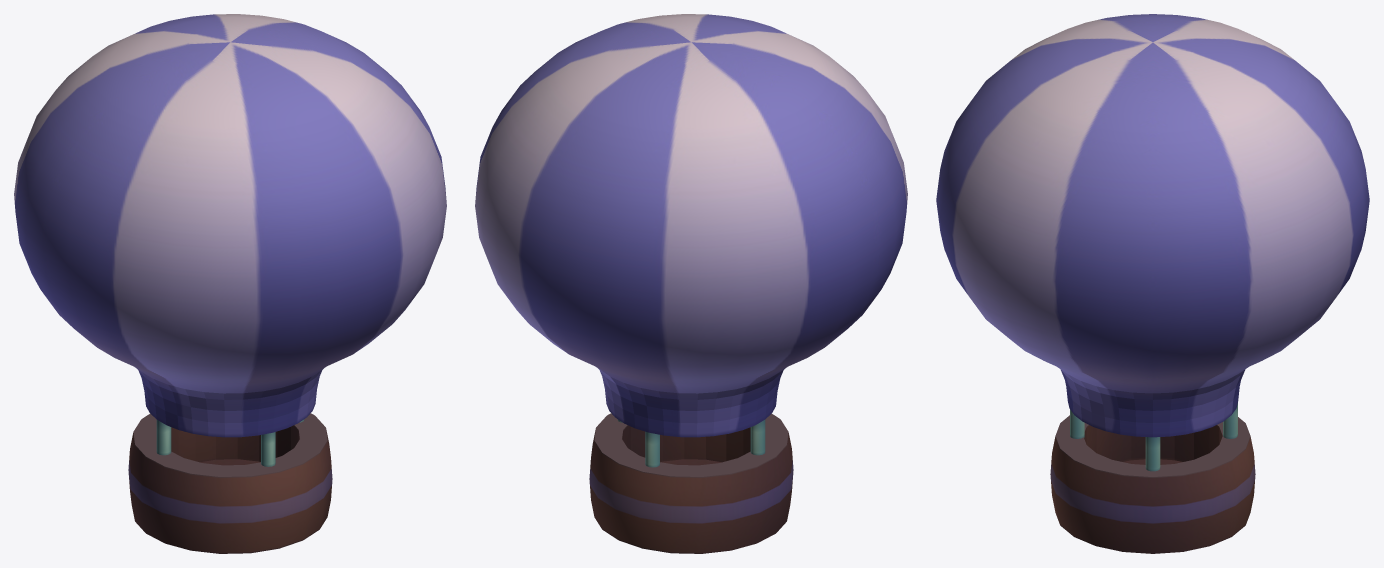
File: 宝宝巴士-主框架-推送地图-游园会-气球1.FBX
3 views of the same model, side by side, from view 1: azimuth 30°, elevation 25°; view 2: azimuth 150°, elevation 25°; view 3: azimuth 270°, elevation 25° (orthographic).
Parts seen in each view (by area): view 1: 宝宝巴士-主框架-推送地图-游园会-气球1; view 2: 宝宝巴士-主框架-推送地图-游园会-气球1; view 3: 宝宝巴士-主框架-推送地图-游园会-气球1.
Boxes of the visible parts, x1,y1,x2,y2 form: 宝宝巴士-主框架-推送地图-游园会-气球1: (14,14,446,553); 宝宝巴士-主框架-推送地图-游园会-气球1: (475,14,907,553); 宝宝巴士-主框架-推送地图-游园会-气球1: (936,14,1369,553).
Size of the model in its own units: 301 by 360 by 301.
